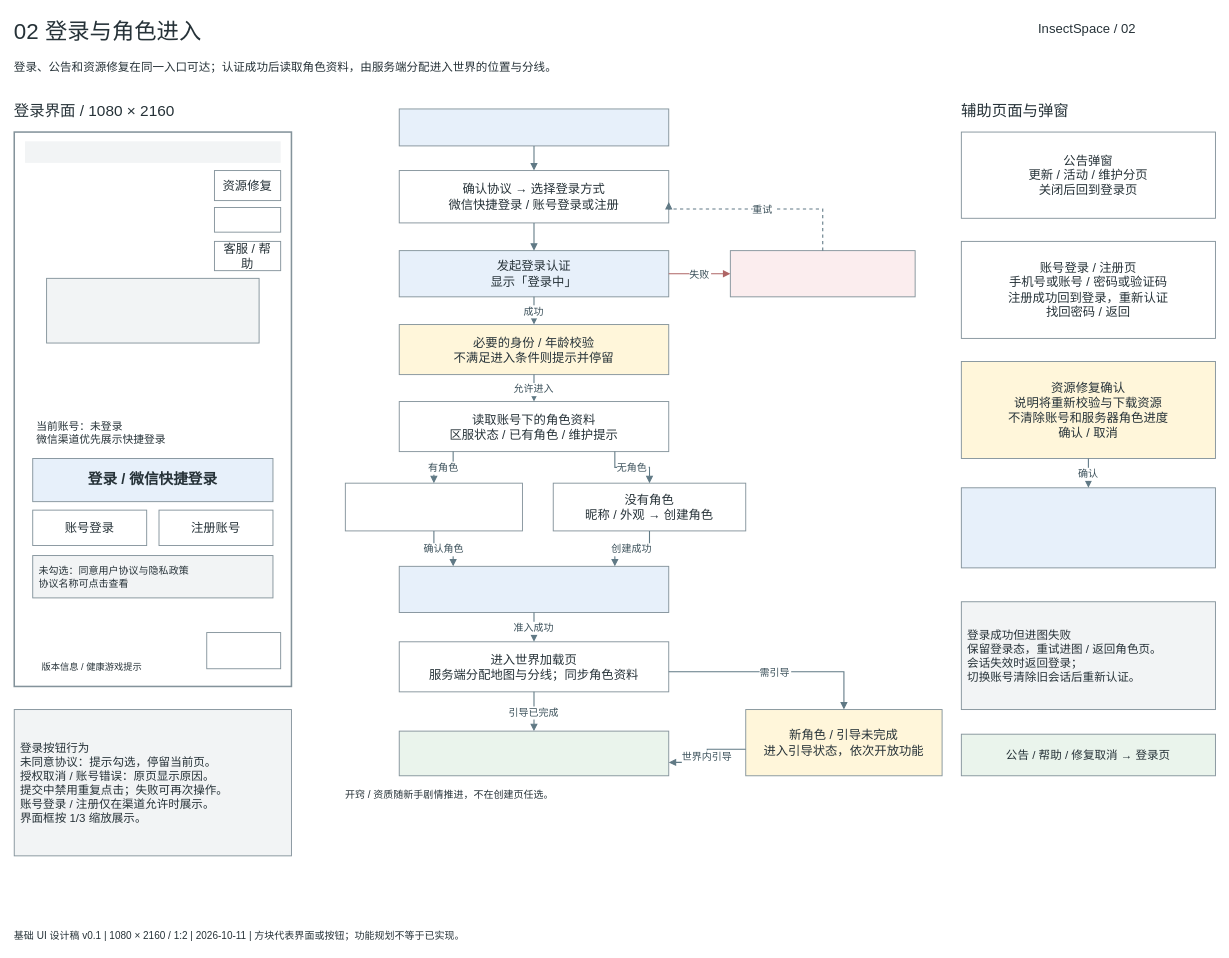
This 1229x958 diagram has some shape labels left out. The shapes that lost their labels are listed below. From the top down, each one's box as (x1, y1, x2, y2) in pixels, then its label:
(398, 108, 669, 146): 来自第 01 页：资源加载完成
(25, 141, 280, 162): 顶部安全区 / 平台胶囊避让
(214, 207, 281, 232): 公告
(729, 250, 915, 297): 失败 / 授权取消 提示原因，返回登录操作
(46, 278, 259, 343): 游戏名称 InsectSpace
(344, 482, 523, 531): 已有角色 选择角色 / 展示归属区
(960, 487, 1216, 568): 确认修复 清理损坏资源 → 返回第 01 页 重新对比、下载与加载
(398, 565, 669, 613): 进入游戏 维护 / 排队时显示状态，可取消
(206, 632, 281, 669): 切换账号
(398, 730, 669, 776): 进入大世界大厅 → 第 03 页
